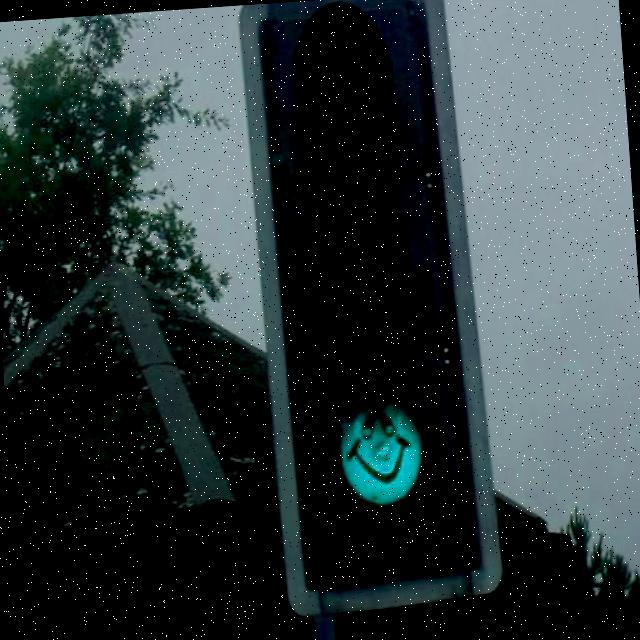Zielone swiatlo: (266, 2, 468, 546)
